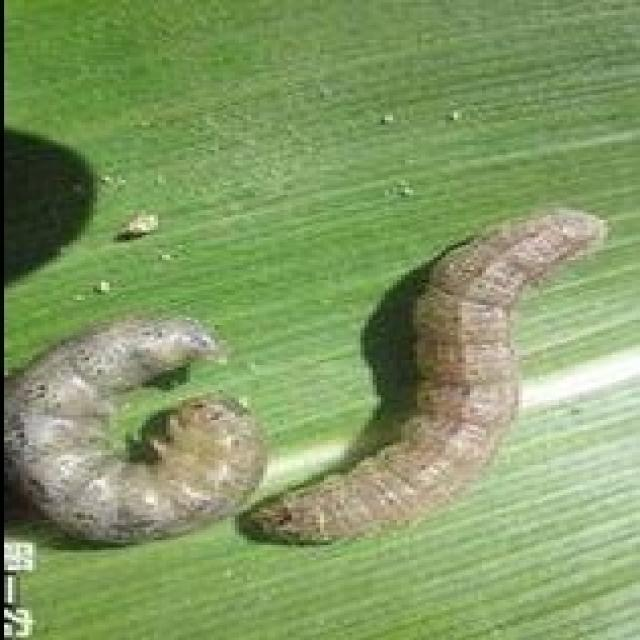black cutworm: (258, 200, 619, 557), (3, 294, 274, 574)
